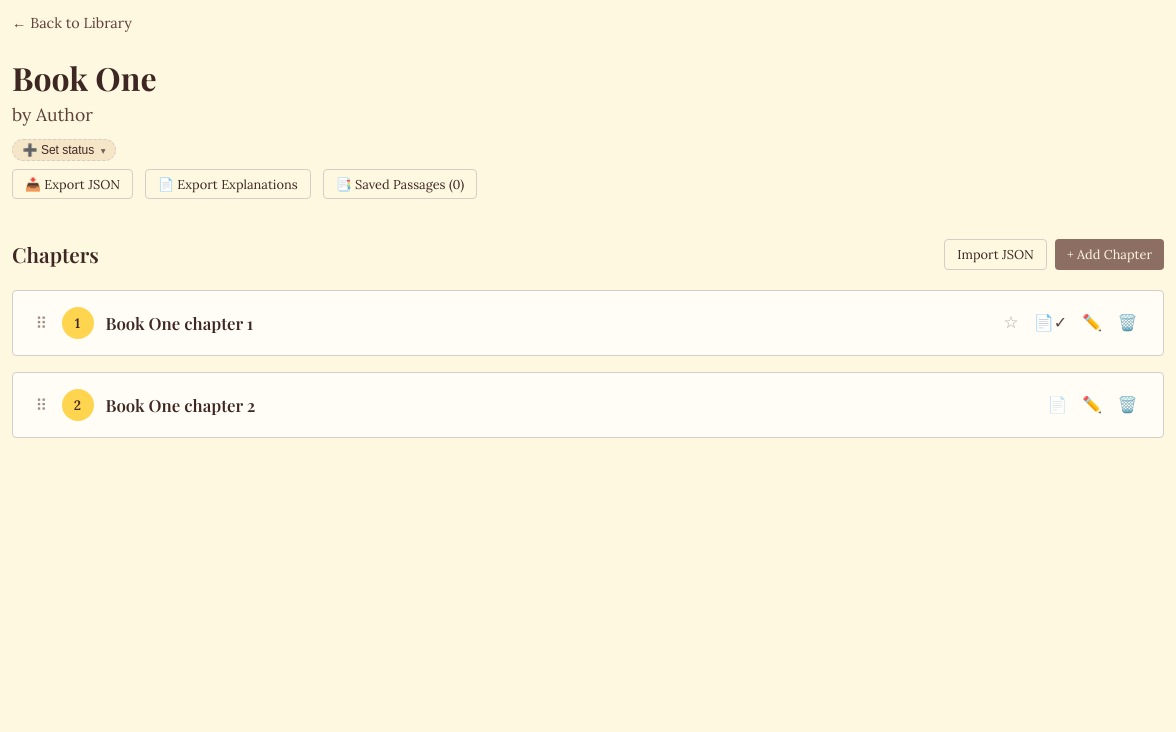
book page failures › puts the star back and says so when favoriting a chapter fails
The image size is (1176, 732).
Click the button titled "Add to Favorite Chapters": [1011, 323] box left=998, top=307, right=1024, bottom=339
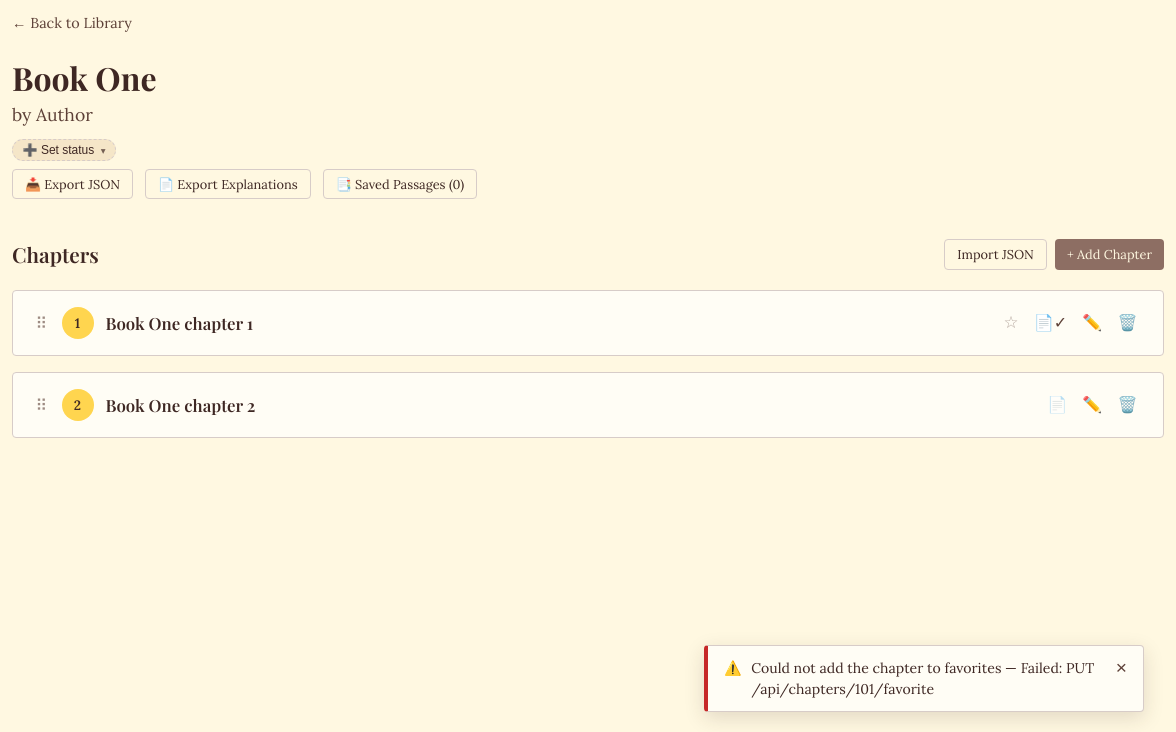
Check: the message shows "Could not add the chapter to favorites — Failed: PUT /api/chapters/101/favorite", box left=751, top=659, right=1094, bottom=698
